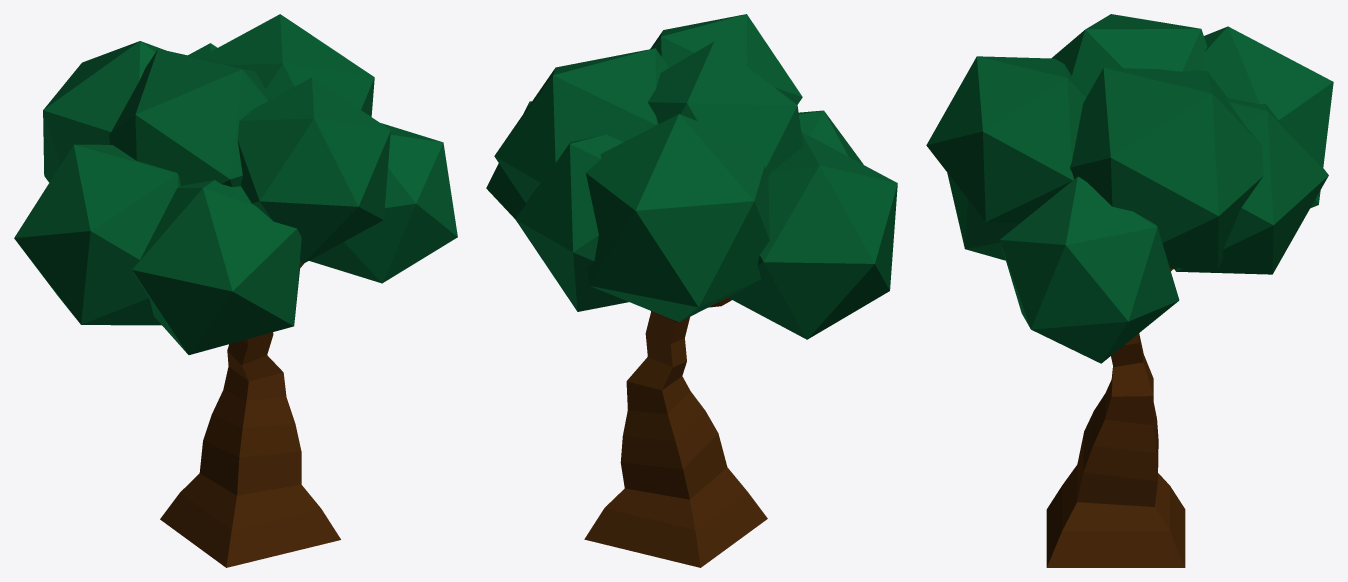
The model's file is prop_tree_large.glb.
3 views of the same model, side by side, from view 1: azimuth 30°, elevation 25°; view 2: azimuth 150°, elevation 25°; view 3: azimuth 270°, elevation 25° (orthographic). The views are drawn at different scales.
Visible parts, largest first — view 1: tree6; view 2: tree6; view 3: tree6.
Part boxes in pixels (bbox=[...]): tree6: bbox=[14, 14, 457, 567]; tree6: bbox=[486, 14, 897, 567]; tree6: bbox=[926, 14, 1333, 567].
Bounding box in the file's own units: 6.23 × 7.13 × 5.29.
